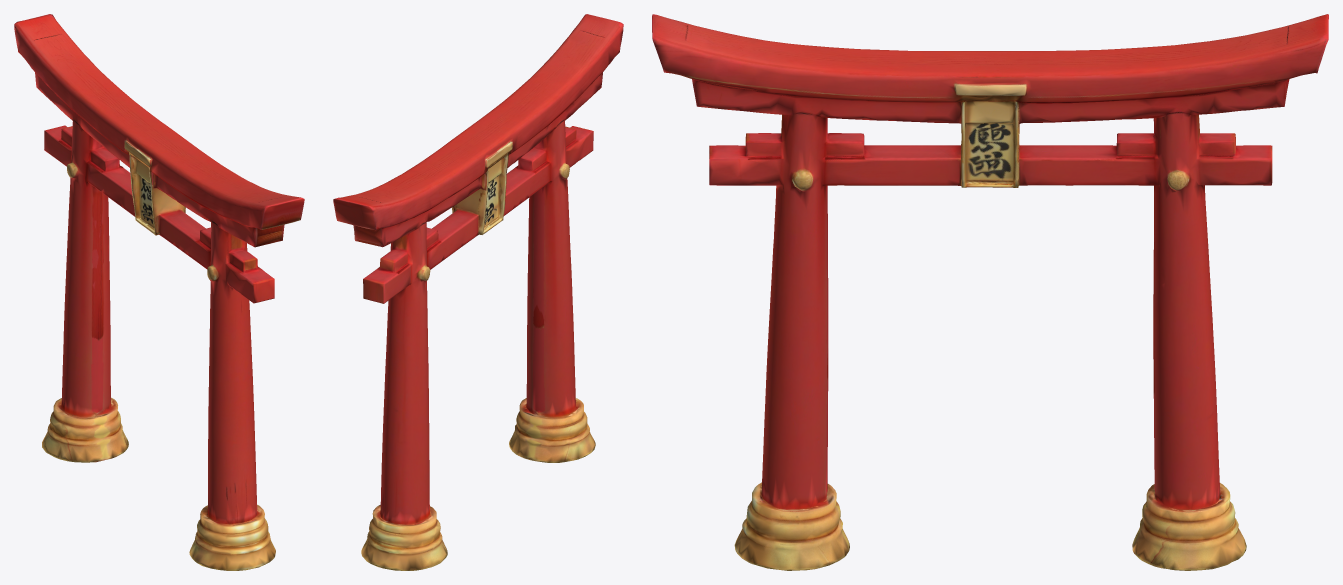
File: torii.glb
3 renders of one model, left to right at view 1: azimuth 30°, elevation 25°; view 2: azimuth 150°, elevation 25°; view 3: azimuth 270°, elevation 25°, orthographic. The views are drawn at different scales.
Size of the model in its own units: 0.3447 by 1.7 by 2.
Materials: 1 (1 with a texture image).
